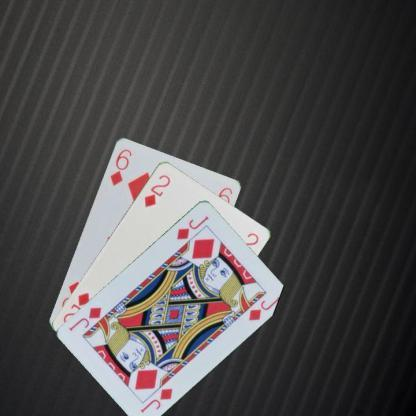2d: (141, 172, 172, 208)
6d: (107, 146, 132, 188)
Jd: (137, 384, 174, 414), (174, 213, 210, 240)
